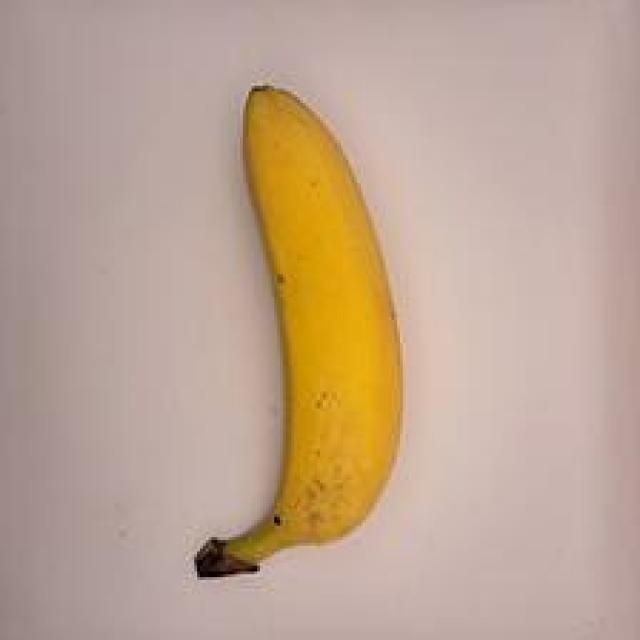Ripe: (164, 58, 460, 602)
